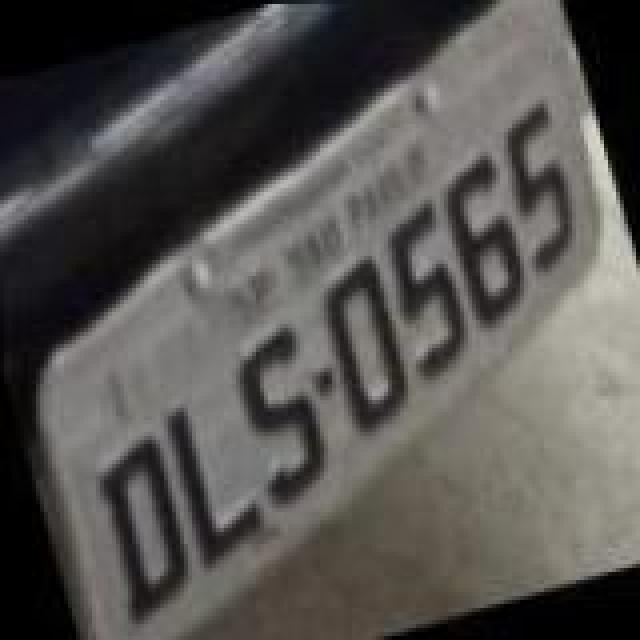5: (368, 196, 480, 388), (486, 94, 594, 274)
6: (430, 146, 542, 330)
D: (80, 428, 208, 632)
L: (154, 390, 274, 578)
O: (300, 246, 420, 438)
S: (222, 320, 346, 516)
